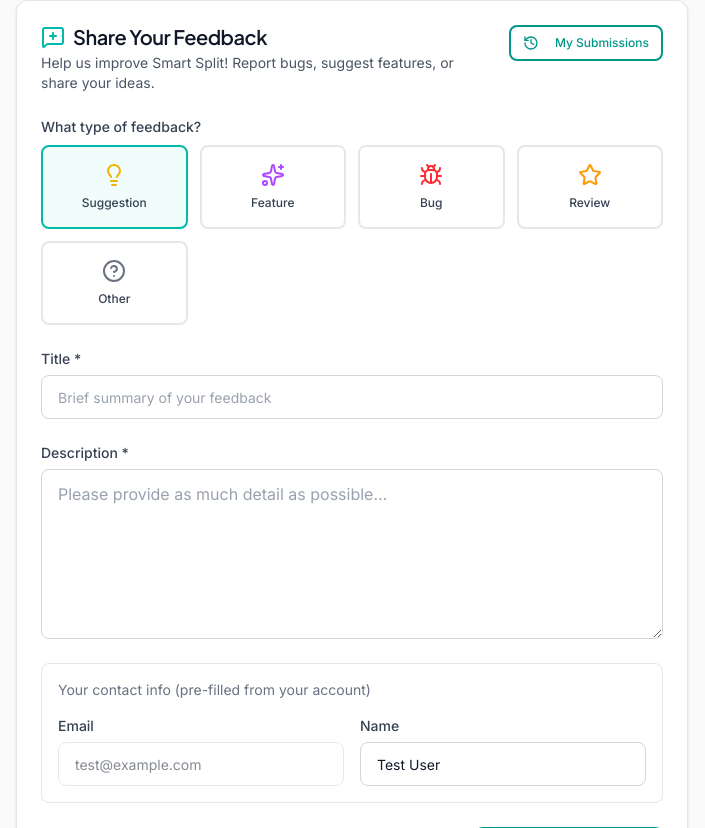
Scenario: FeedbackForm - Review Type › shows star rating when Review type is selected
Select Review type (button text is just "Review" without emoji)
Click the button "Review" at (590, 187), box top-left (516, 145), bottom-right (663, 229)
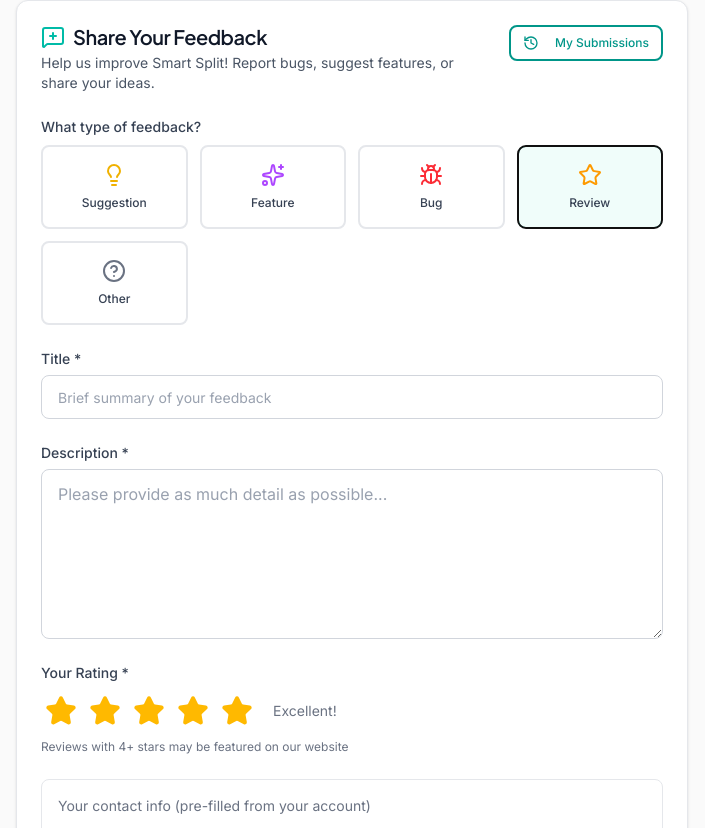
Expected: the text "Your Rating *" is shown, top-left (41, 664), bottom-right (129, 681)
Expected: the text "Excellent!" is shown, top-left (273, 701), bottom-right (337, 721)
